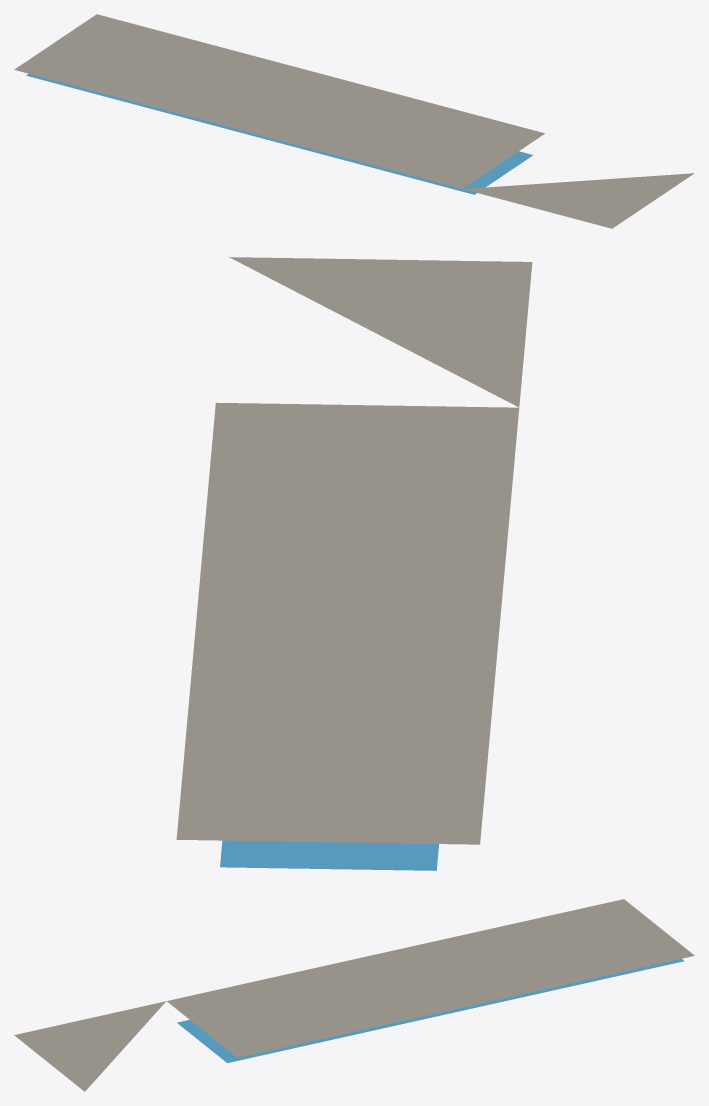
3 views of the same model, one above another, from view 1: azimuth 30°, elevation 25°; view 2: azimuth 150°, elevation 25°; view 3: azimuth 270°, elevation 25° (orthographic). The views are drawn at different scales.
Visible parts, largest first — view 1: estructura_terreno, estructura_agua; view 2: estructura_terreno, estructura_agua; view 3: estructura_terreno, estructura_agua.
Part boxes in pixels (left/top/right/bottom): estructura_terreno: left=14, top=14, right=694, bottom=228; estructura_agua: left=26, top=74, right=533, bottom=194; estructura_terreno: left=176, top=257, right=532, bottom=844; estructura_agua: left=220, top=840, right=438, bottom=870; estructura_terreno: left=14, top=899, right=694, bottom=1091; estructura_agua: left=177, top=959, right=684, bottom=1062.
Bounding box in the file's own units: 12.62 × 0.41 × 18.83.
